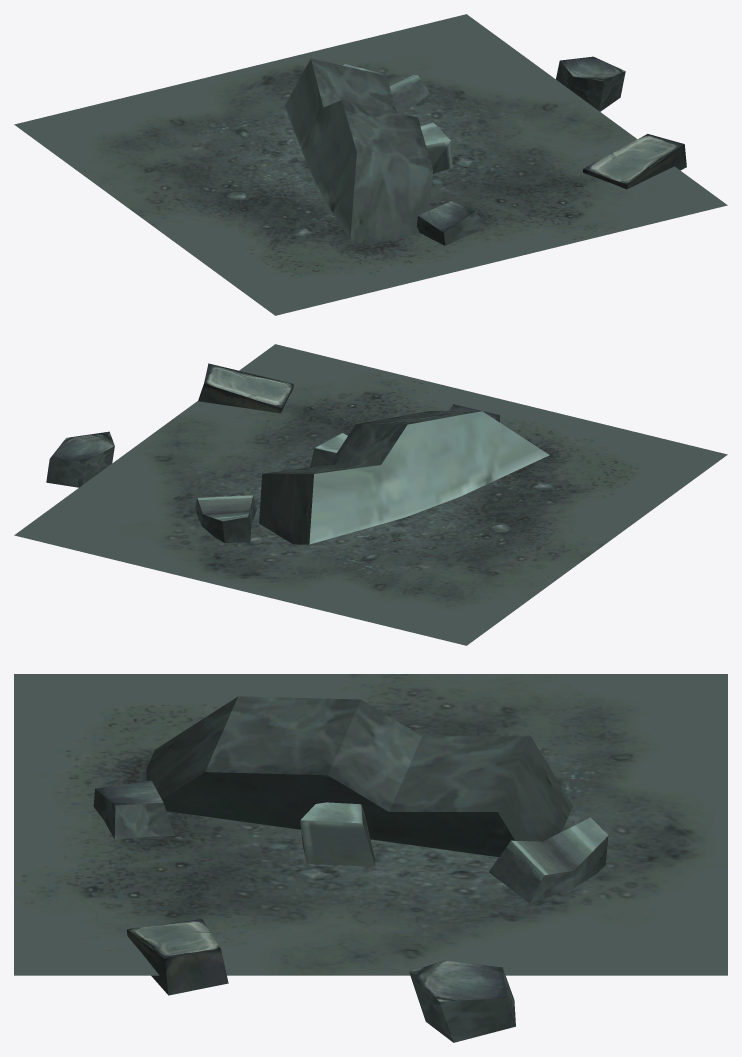
File: crypt_rubble_02.fbx
The picture shows the model from 3 angles, top to bottom: view 1: azimuth 30°, elevation 25°; view 2: azimuth 150°, elevation 25°; view 3: azimuth 270°, elevation 25°; orthographic projection. The views are drawn at different scales.
Visible parts, largest first — view 1: obj3.001; view 2: obj3.001; view 3: obj3.001.
Part boxes in pixels (<box>): obj3.001: <box>14,14,727,315</box>; obj3.001: <box>14,344,727,645</box>; obj3.001: <box>14,674,727,1042</box>.
Bounding box in the file's own units: 4.47 × 1.04 × 4.
